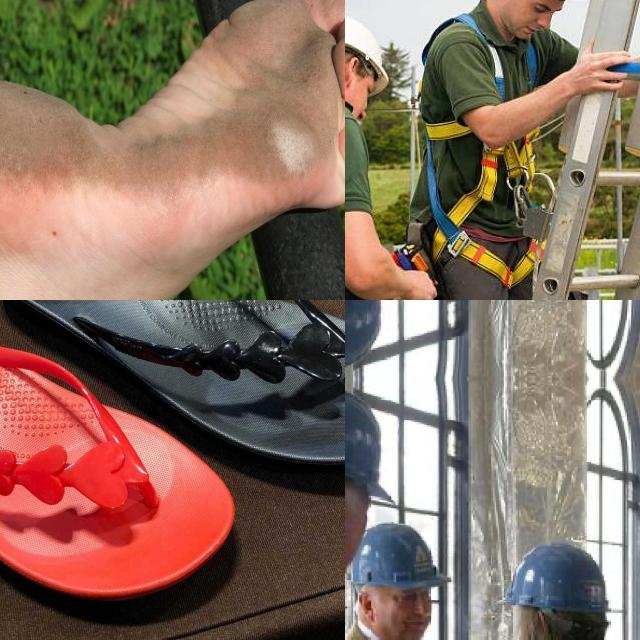Barefoots: (0, 0, 345, 300)
Harness: (405, 13, 571, 300)
No_Ear-Protection: (357, 589, 378, 625)
No_Glasses: (392, 589, 431, 604)
Sandals: (0, 300, 263, 624), (0, 300, 345, 489)
face_nomask: (382, 603, 431, 640)
head_helmet: (505, 544, 605, 612), (351, 524, 449, 588), (345, 391, 392, 501)
